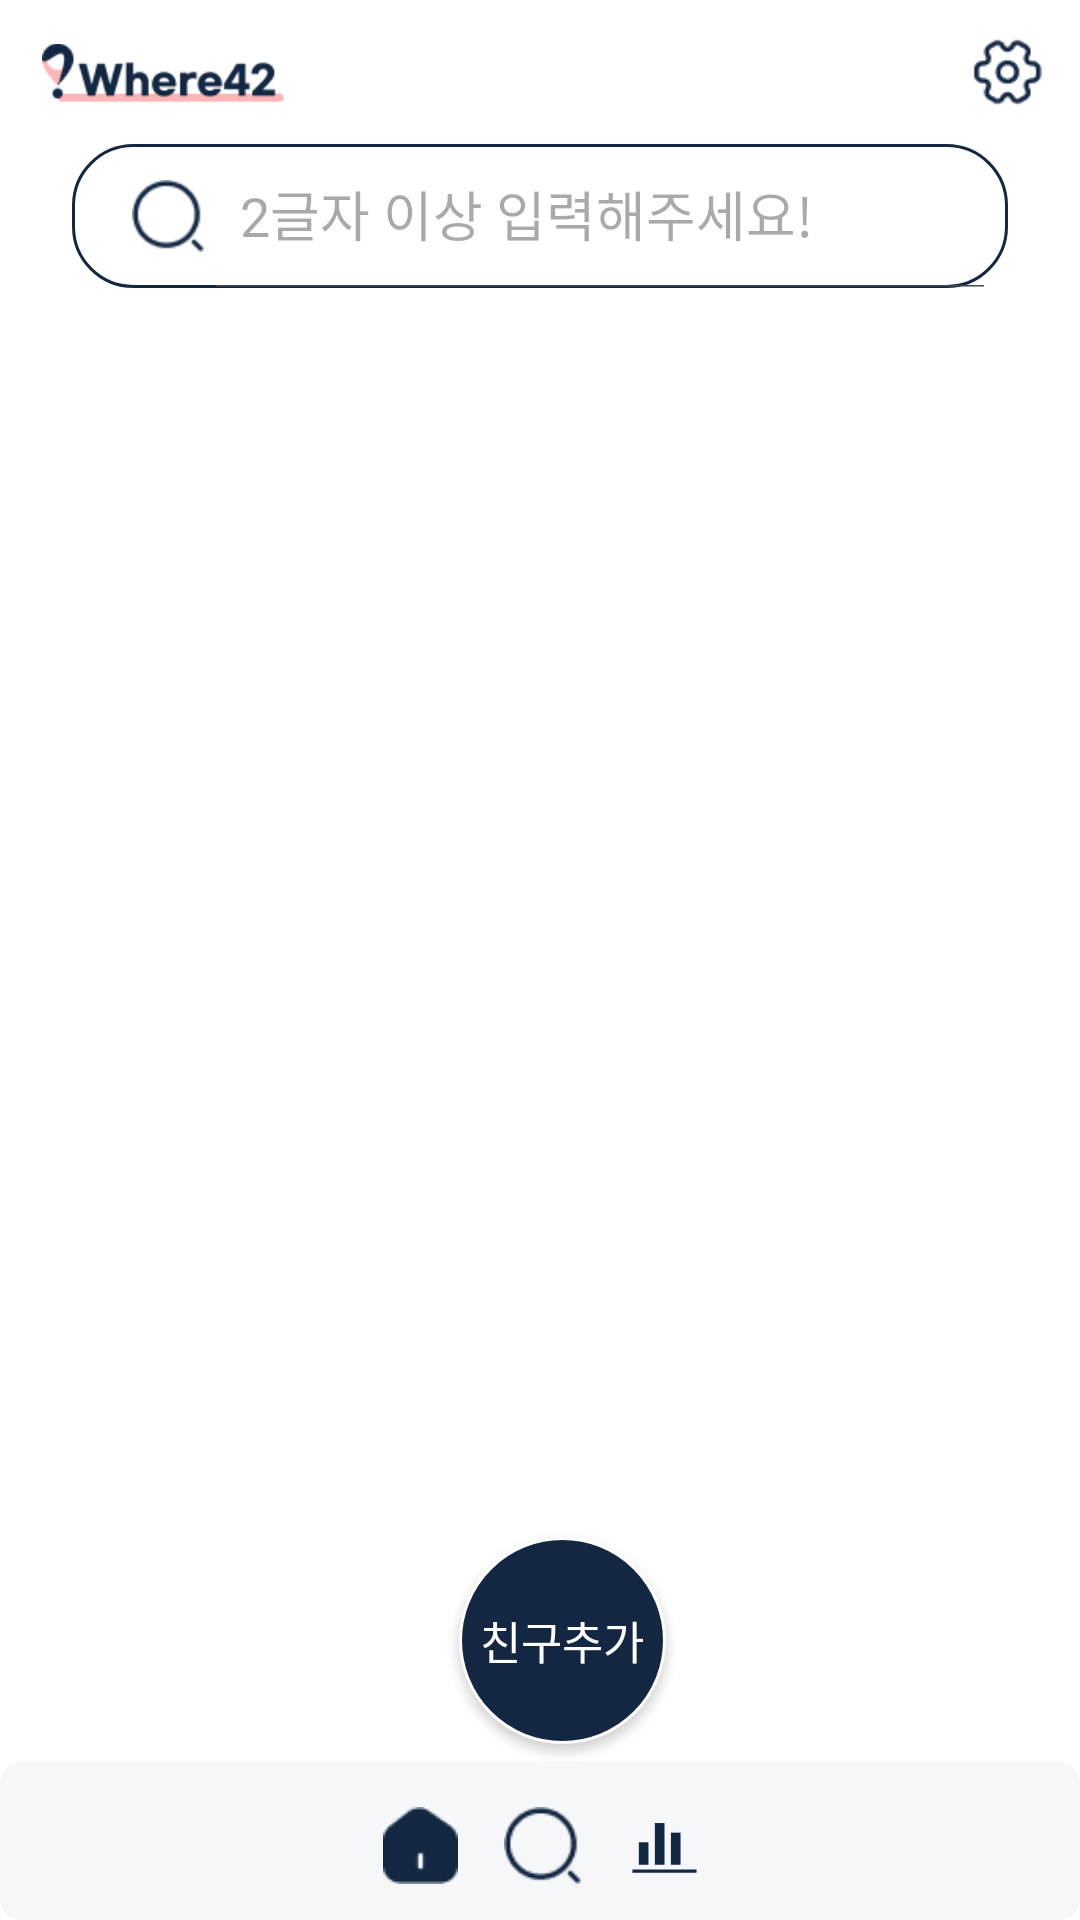

Named icons in this screenshot (1080 x 1920) and their centers, (x=x, y=y):
bar: (x=664, y=1848)
settings: (x=1008, y=72)
